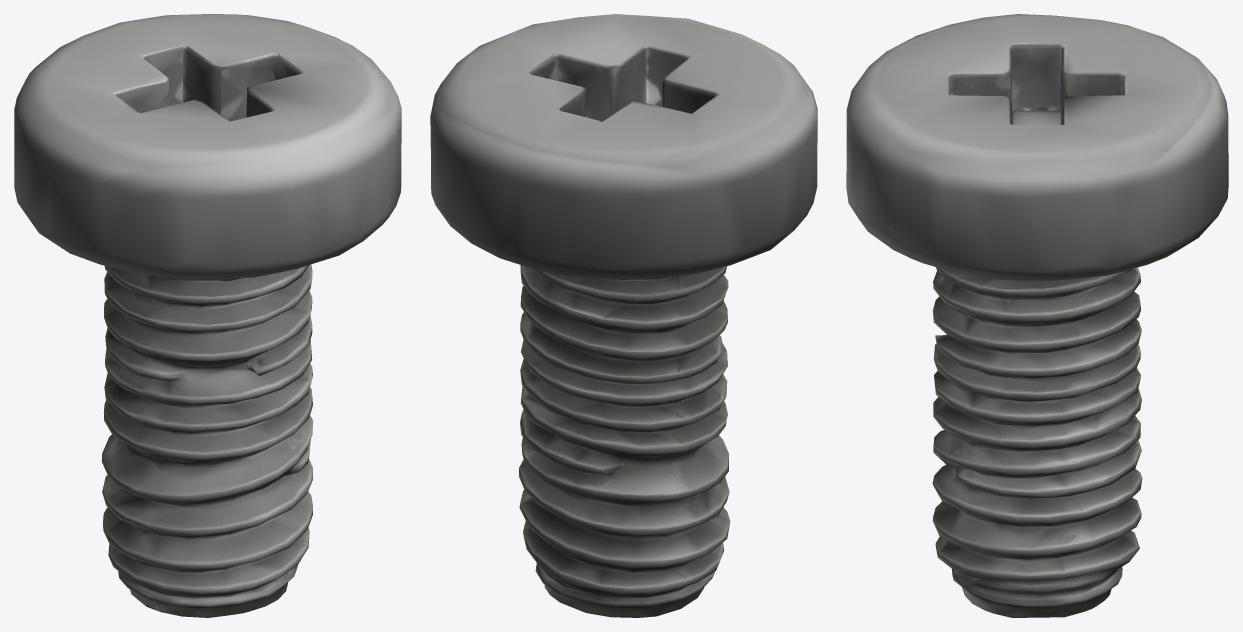
Rendered from Item_002.fbx.
3 views of the same model, side by side, from view 1: azimuth 30°, elevation 25°; view 2: azimuth 150°, elevation 25°; view 3: azimuth 270°, elevation 25° (orthographic).
Parts seen in each view (by area): view 1: material_0; view 2: material_0; view 3: material_0.
Part boxes in pixels (left/top/right/bottom): material_0: left=14, top=14, right=401, bottom=617; material_0: left=430, top=14, right=817, bottom=617; material_0: left=846, top=14, right=1228, bottom=617.
Bounding box in the file's own units: 69.19 × 100 × 68.88.
1 material, 1 textured.
